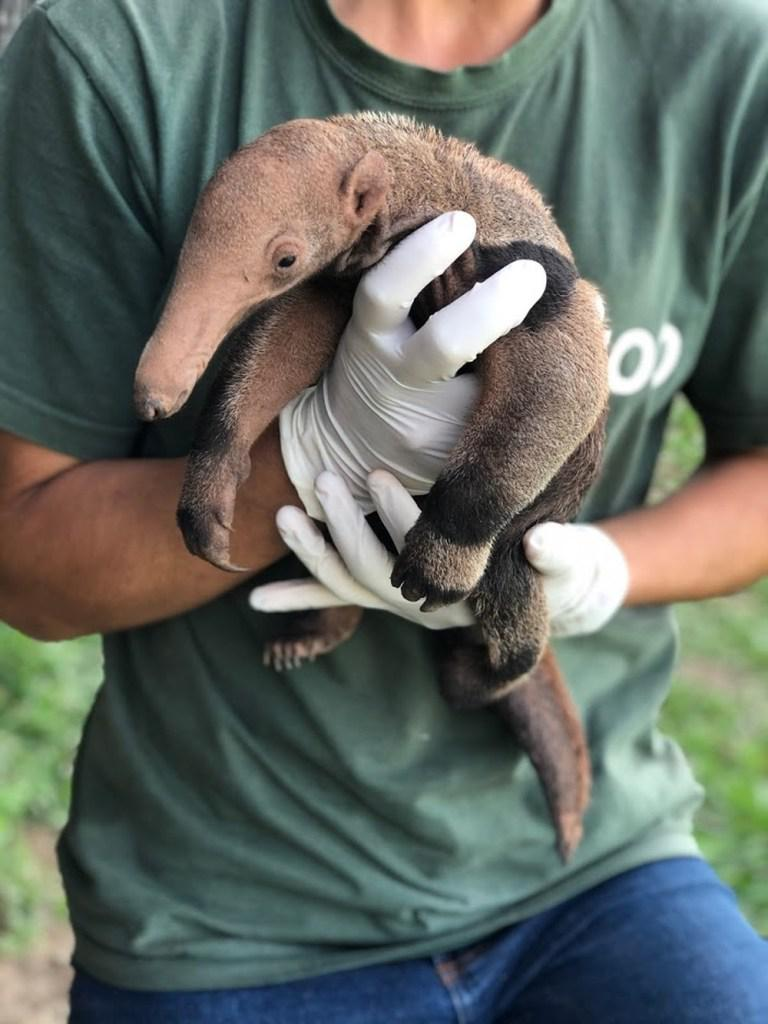TamanduaBandeira: (120, 100, 599, 863)
